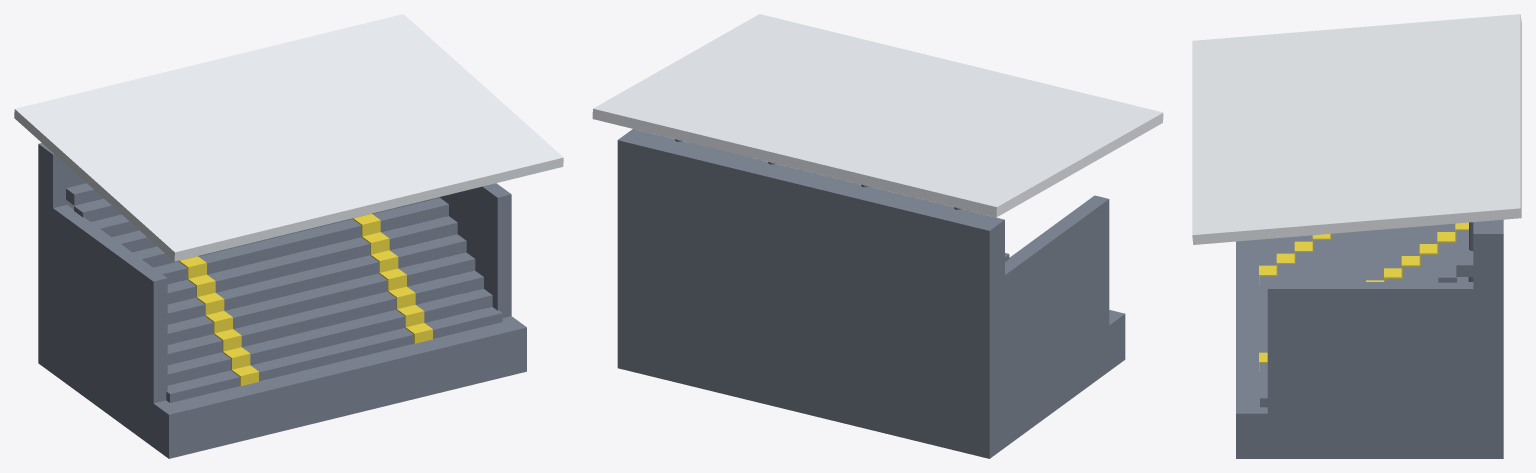
The model's file is env_grandstands_crowds.glb.
The picture shows the model from 3 angles, left to right: view 1: azimuth 30°, elevation 25°; view 2: azimuth 150°, elevation 25°; view 3: azimuth 270°, elevation 25°; orthographic projection. The views are drawn at different scales.
Parts seen in each view (by area): view 1: Grandstand_Tribune-col; view 2: Grandstand_Tribune-col; view 3: Grandstand_Tribune-col.
Boxes of the visible parts, bbox=[...] form: Grandstand_Tribune-col: bbox=[14, 14, 563, 458]; Grandstand_Tribune-col: bbox=[592, 14, 1163, 458]; Grandstand_Tribune-col: bbox=[1192, 14, 1521, 458].
Bounding box in the file's own units: 30.4 × 18.84 × 21.78.
